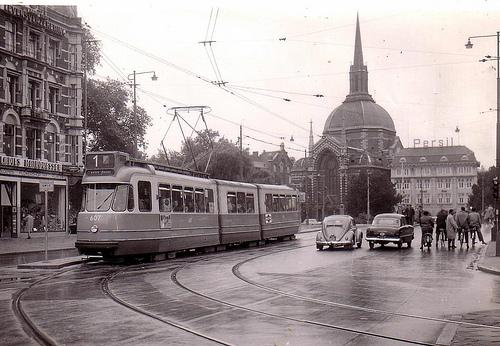Train: (72, 147, 304, 270)
